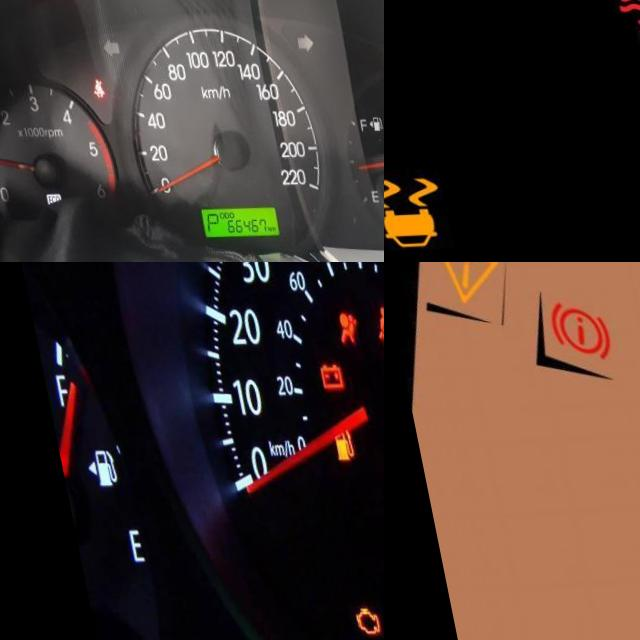High Engine Coolant Temperature: (600, 0, 640, 72)
